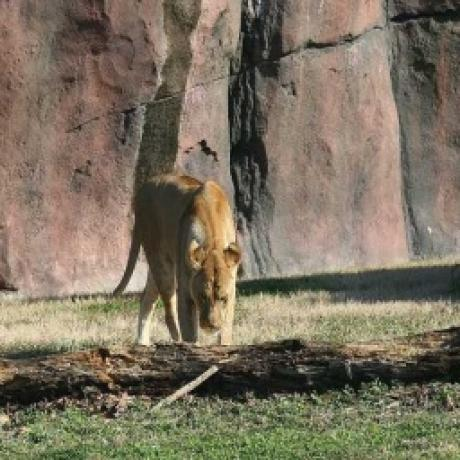Lion: (109, 164, 241, 346)
